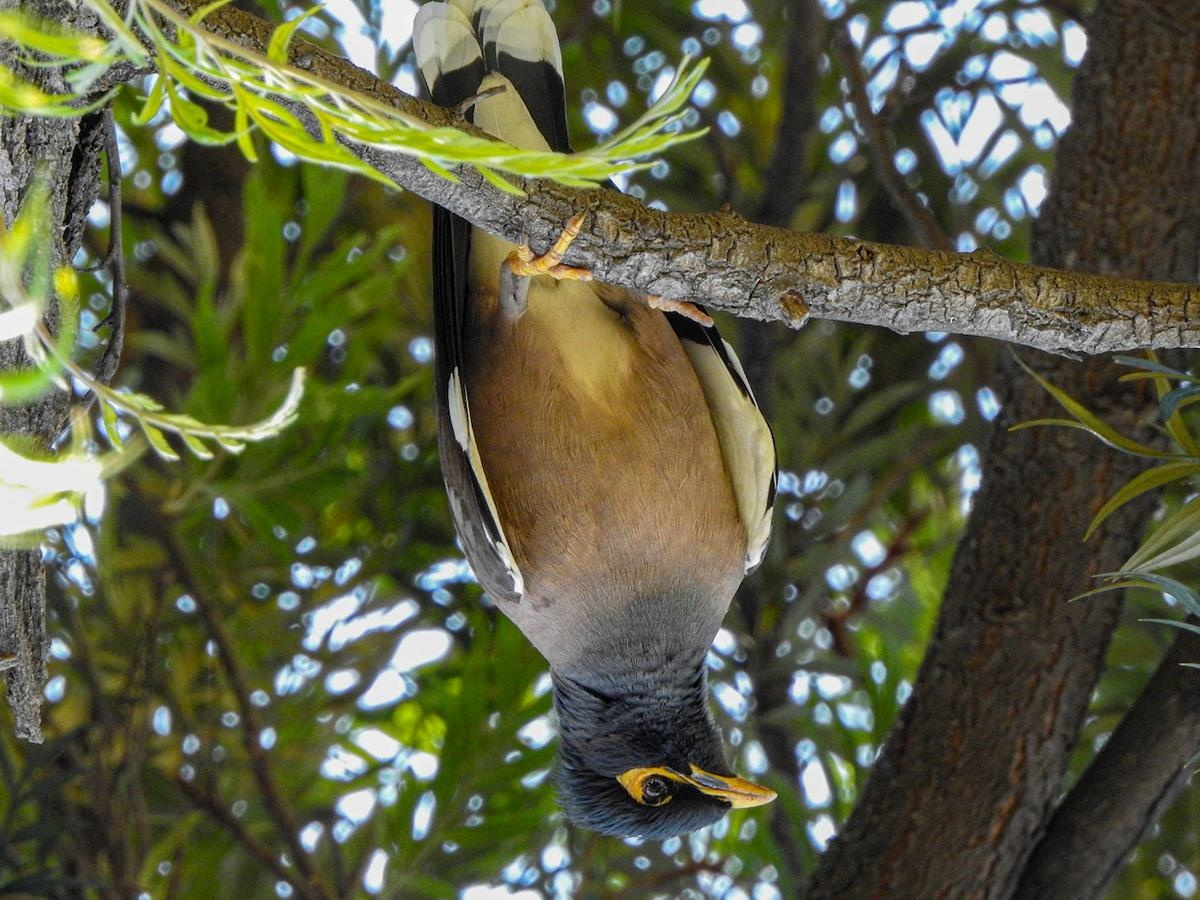myna: (347, 87, 780, 837)
